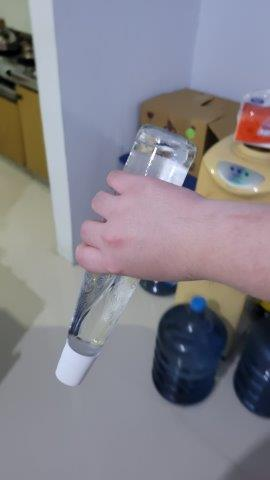botolkaca: (50, 124, 199, 402)
